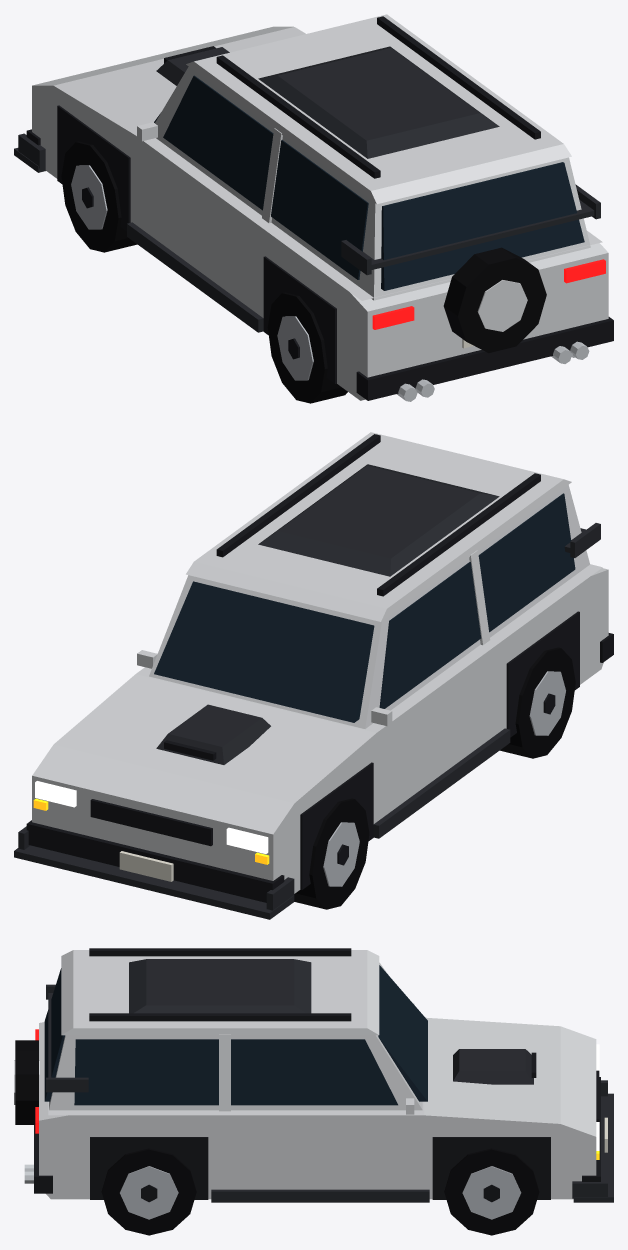
File: car_suv.glb
3 views of the same model, one above another, from view 1: azimuth 30°, elevation 25°; view 2: azimuth 150°, elevation 25°; view 3: azimuth 270°, elevation 25° (orthographic). The views are drawn at different scales.
Parts seen in each view (by area): view 1: car_suv__body, car_suv__mod_roof, car_suv__wheel_rl, car_suv__wheel_fl, car_suv__mod_spoiler, car_suv__mod_skirts, car_suv__mod_exhaust, car_suv__mod_hood, car_suv__mod_bumper; view 2: car_suv__body, car_suv__mod_roof, car_suv__wheel_fl, car_suv__wheel_rl, car_suv__mod_bumper, car_suv__mod_hood, car_suv__mod_skirts, car_suv__mod_spoiler; view 3: car_suv__body, car_suv__mod_roof, car_suv__wheel_fr, car_suv__wheel_rr, car_suv__mod_skirts, car_suv__mod_hood, car_suv__mod_bumper, car_suv__mod_spoiler.
Part boxes in pixels (<box>): car_suv__body: <box>26,14,613,400</box>; car_suv__mod_roof: <box>258,46,499,158</box>; car_suv__wheel_rl: <box>267,292,347,403</box>; car_suv__wheel_fl: <box>61,141,137,252</box>; car_suv__mod_spoiler: <box>341,184,600,275</box>; car_suv__mod_skirts: <box>127,222,263,332</box>; car_suv__mod_exhaust: <box>397,341,589,401</box>; car_suv__mod_hood: <box>156,46,229,85</box>; car_suv__mod_bumper: <box>14,133,45,172</box>; car_suv__body: <box>26,432,613,902</box>; car_suv__mod_roof: <box>258,464,499,576</box>; car_suv__wheel_fl: <box>294,798,369,909</box>; car_suv__wheel_rl: <box>500,647,575,758</box>; car_suv__mod_bumper: <box>14,826,294,919</box>; car_suv__mod_hood: <box>156,704,270,764</box>; car_suv__mod_skirts: <box>373,728,510,838</box>; car_suv__mod_spoiler: <box>564,523,600,557</box>; car_suv__body: <box>14,948,607,1199</box>; car_suv__mod_roof: <box>129,959,311,1013</box>; car_suv__wheel_fr: <box>444,1148,539,1235</box>; car_suv__wheel_rr: <box>101,1148,196,1235</box>; car_suv__mod_skirts: <box>211,1189,429,1202</box>; car_suv__mod_hood: <box>453,1049,536,1084</box>; car_suv__mod_bumper: <box>572,1080,613,1202</box>; car_suv__mod_spoiler: <box>46,984,88,1092</box>.
Bounding box in the file's own units: 2.08 × 1.89 × 5.06.
